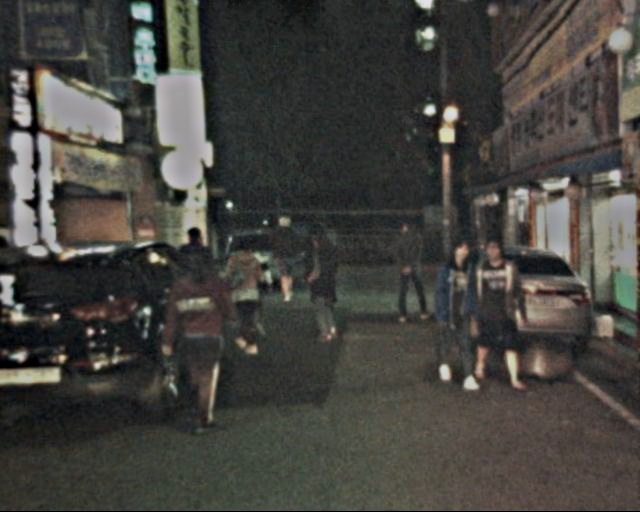person: (167, 252, 238, 425), (465, 239, 526, 386), (430, 243, 491, 388), (166, 227, 220, 345), (222, 237, 269, 356), (299, 228, 346, 341), (388, 220, 430, 321), (267, 217, 301, 300)
